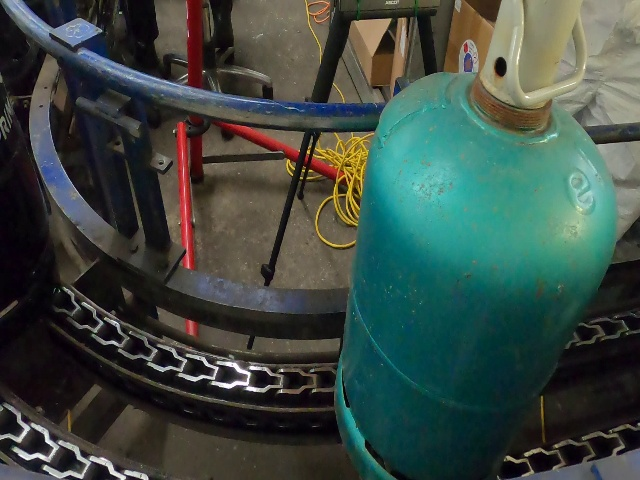gas_bottle: (0, 0, 636, 474)
